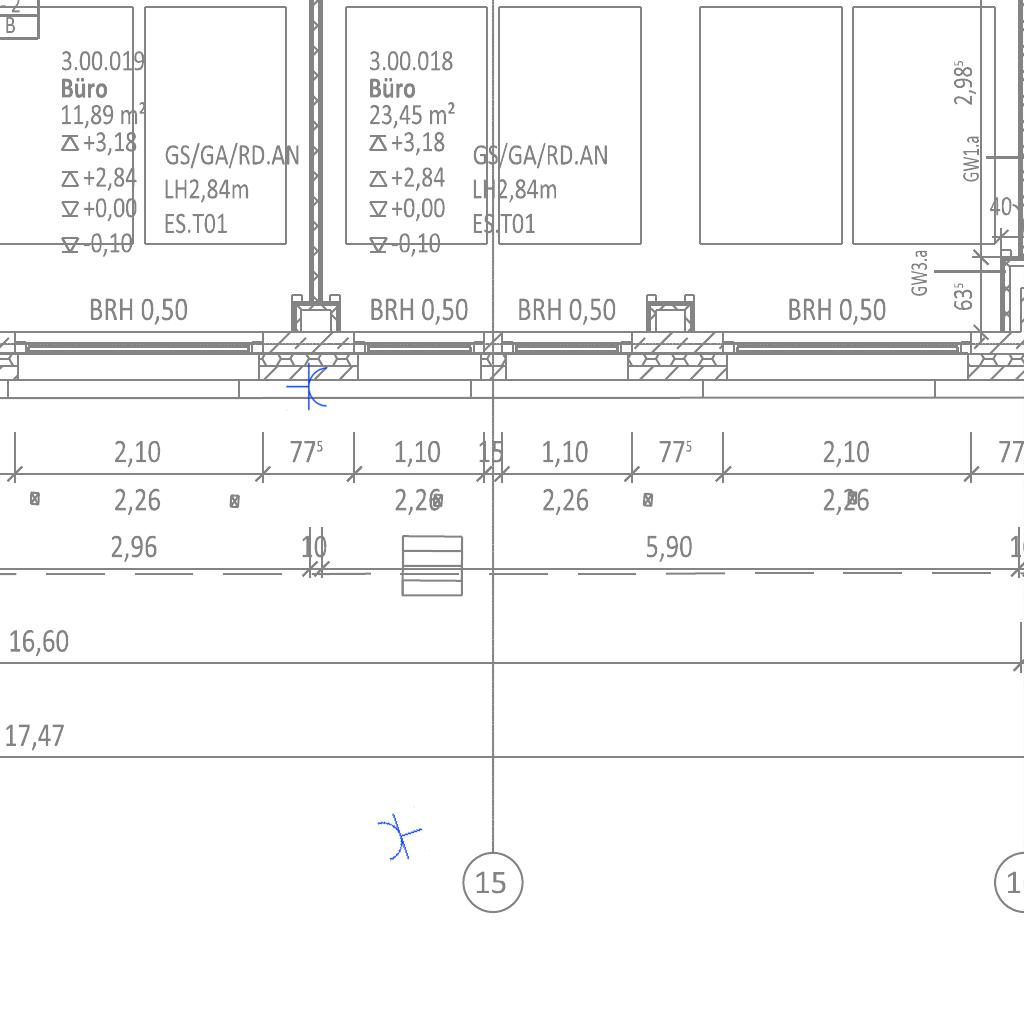Schukosteckdose_einfach: (373, 804, 431, 867), (286, 362, 329, 412)
